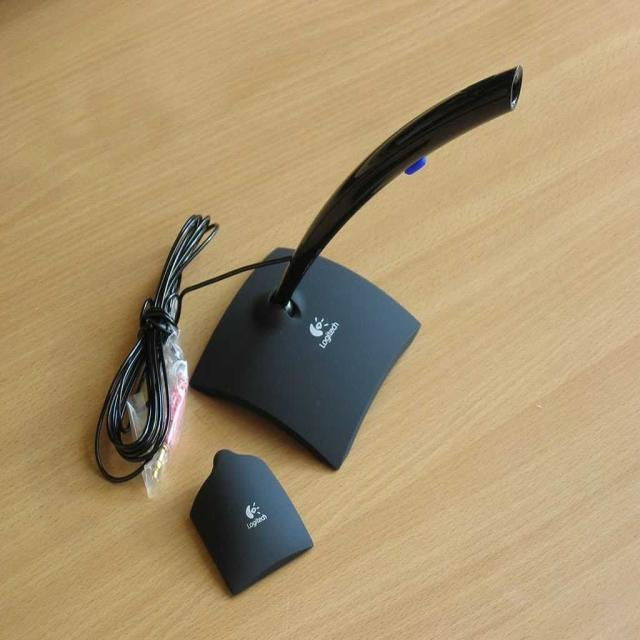microphone: (286, 41, 526, 301)
